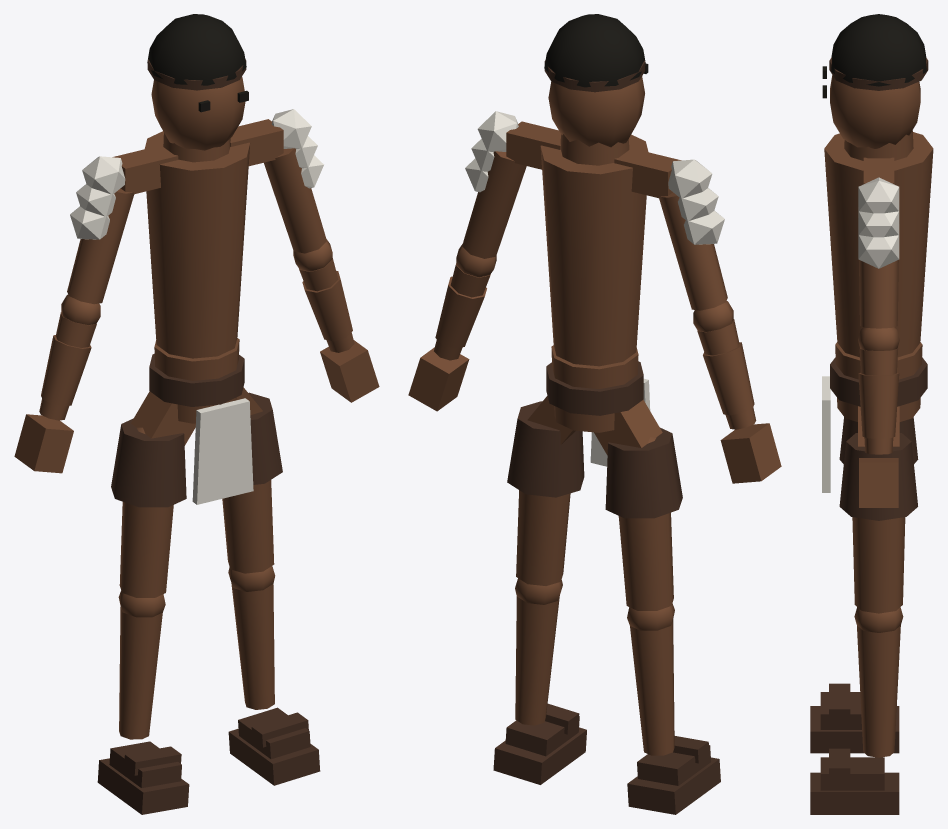
Rendered from zulu-body.glb.
3 views of the same model, side by side, from view 1: azimuth 30°, elevation 25°; view 2: azimuth 150°, elevation 25°; view 3: azimuth 270°, elevation 25° (orthographic). The views are drawn at different scales.
Visible parts, largest first — view 1: FittedTorso, WaistKilt (×2), FrontApron, Hair, Face, Shin-1, Thigh-1, Shin1, ShoulderTuft (×4), Thigh1, UpperArm1, ShoulderLink (×2) (+20 smaller); view 2: FittedTorso, WaistKilt (×2), Hair, Face, Shin-1, Thigh-1, Shin1, Thigh1, ShoulderTuft (×4), UpperArm1, ShoulderLink (×2), UpperArm-1 (+19 smaller); view 3: FittedTorso, Hair, Face, Shin1, Thigh1, WaistKilt (×2), ShoulderTuft (×3), Sandal1, UpperArm1, Bracer1, Hand1, Waist (+14 smaller).
Part boxes in pixels (x1=…): FittedTorso: x1=144, y1=131, x2=250, y2=358; WaistKilt (×2): x1=111, y1=392, x2=282, y2=507; FrontApron: x1=192, y1=398, x2=253, y2=504; Hair: x1=147, y1=14, x2=246, y2=85; Face: x1=151, y1=77, x2=245, y2=150; Shin-1: x1=119, y1=606, x2=162, y2=739; Thigh-1: x1=119, y1=502, x2=173, y2=597; Shin1: x1=231, y1=583, x2=274, y2=709; ShoulderTuft (×4): x1=70, y1=109, x2=311, y2=239; Thigh1: x1=222, y1=480, x2=274, y2=573; UpperArm1: x1=264, y1=148, x2=326, y2=253; ShoulderLink (×2): x1=112, y1=119, x2=283, y2=194; FittedTorso: x1=540, y1=134, x2=648, y2=366; WaistKilt (×2): x1=507, y1=401, x2=682, y2=518; Hair: x1=544, y1=14, x2=645, y2=87; Face: x1=548, y1=76, x2=644, y2=147; Shin-1: x1=630, y1=619, x2=674, y2=755; Thigh-1: x1=618, y1=512, x2=673, y2=610; Shin1: x1=515, y1=595, x2=559, y2=725; Thigh1: x1=516, y1=490, x2=570, y2=585; ShoulderTuft (×4): x1=477, y1=111, x2=724, y2=244; UpperArm1: x1=462, y1=151, x2=526, y2=258; ShoulderLink (×2): x1=506, y1=121, x2=681, y2=198; UpperArm-1: x1=659, y1=192, x2=727, y2=310; FittedTorso: x1=824, y1=132, x2=933, y2=357; Hair: x1=831, y1=14, x2=926, y2=86; Face: x1=830, y1=75, x2=920, y2=148; Shin1: x1=857, y1=625, x2=900, y2=757; Thigh1: x1=852, y1=517, x2=905, y2=613; WaistKilt (×2): x1=839, y1=417, x2=918, y2=520; ShoulderTuft (×3): x1=858, y1=177, x2=899, y2=268; Sandal1: x1=810, y1=772, x2=899, y2=814; UpperArm1: x1=858, y1=207, x2=899, y2=328; Bracer1: x1=858, y1=372, x2=899, y2=438; Hand1: x1=859, y1=458, x2=898, y2=507; Waist: x1=835, y1=342, x2=922, y2=421.
Bounding box in the file's own units: 0.9158 × 1.91 × 0.2815.
